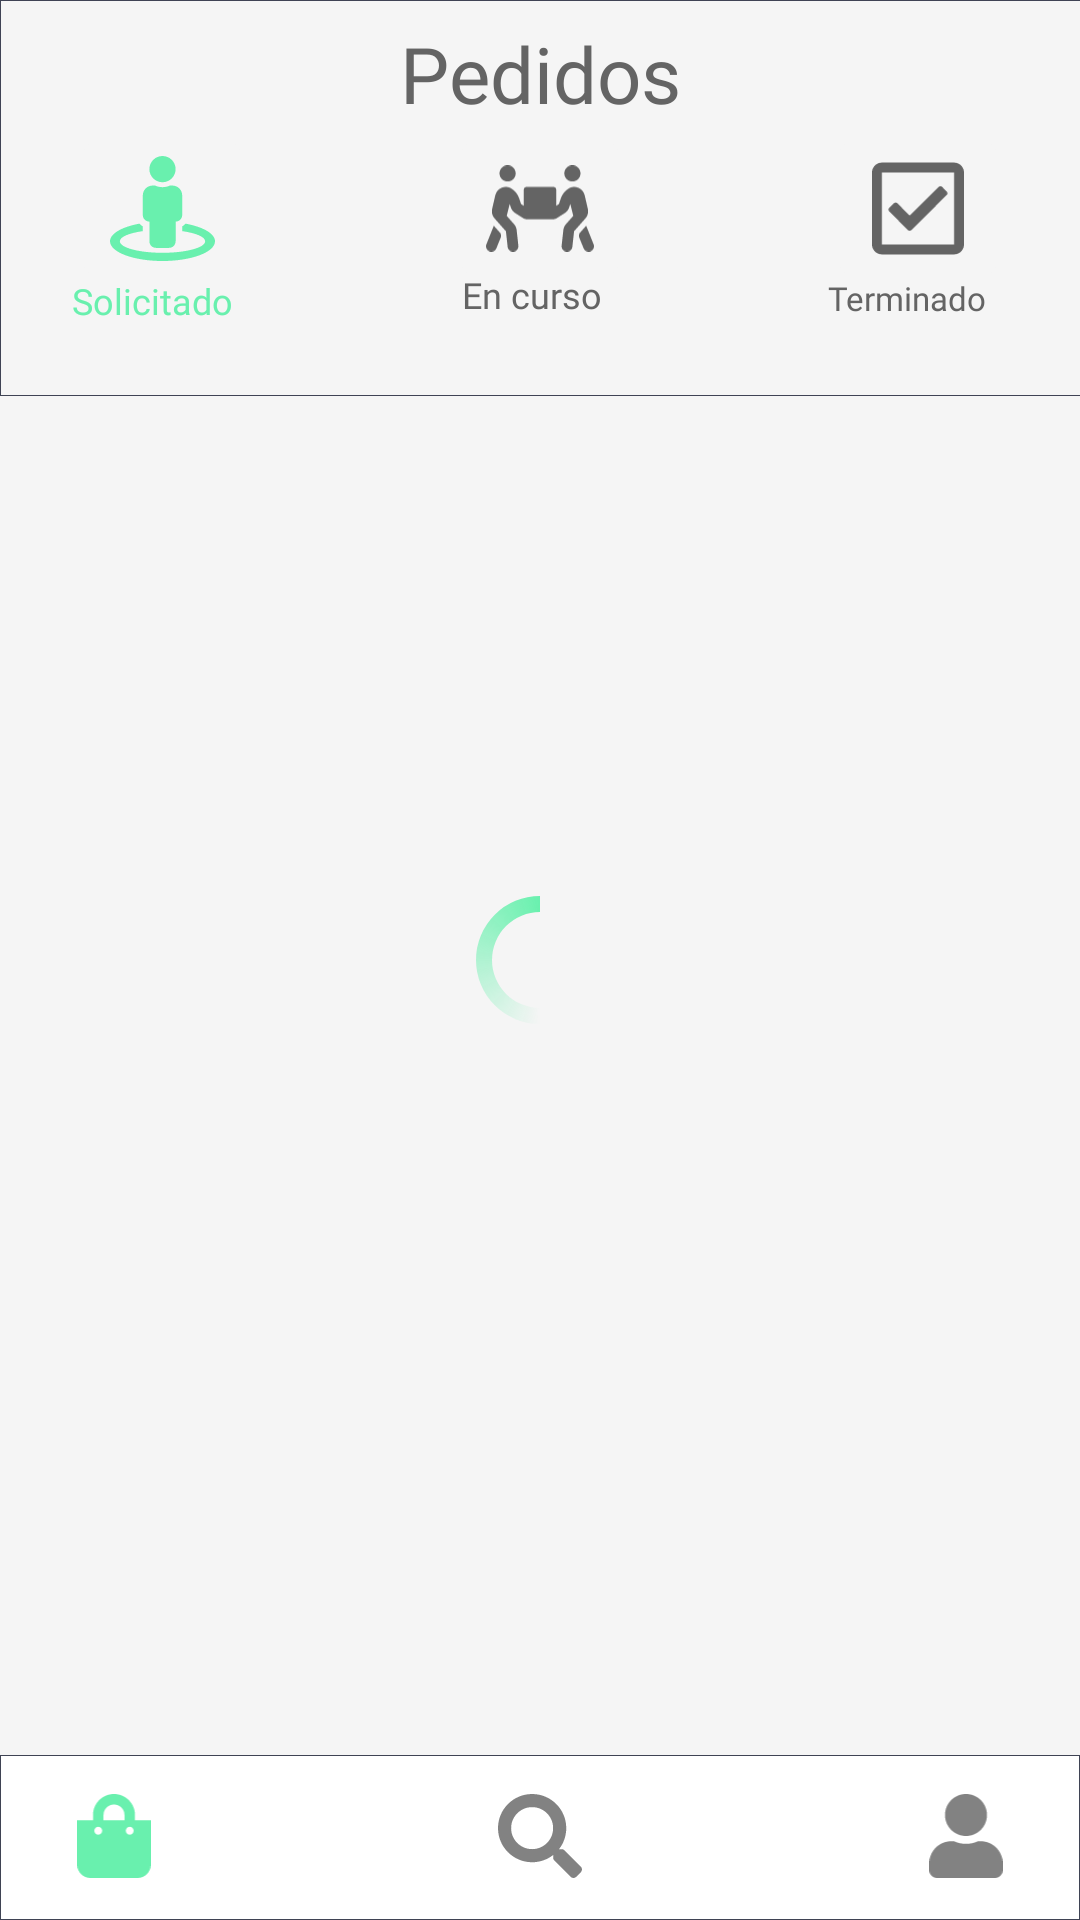

Screen size 1080 x 1920. Icon name, then its box in pixels as (left=x1, top=y1, right=x2, bottom=y2):
check square: (left=872, top=162, right=964, bottom=291)
people carry: (left=486, top=165, right=594, bottom=252)
search: (left=498, top=1794, right=582, bottom=1878)
shopping bag: (left=77, top=1794, right=151, bottom=1878)
street view: (left=110, top=156, right=215, bottom=291)
user: (left=929, top=1794, right=1003, bottom=1878)
